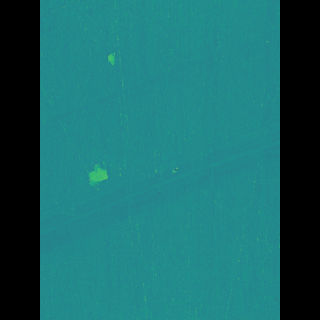Loch: (69, 117, 249, 263), (74, 24, 251, 133), (103, 153, 125, 190), (117, 49, 130, 66)
